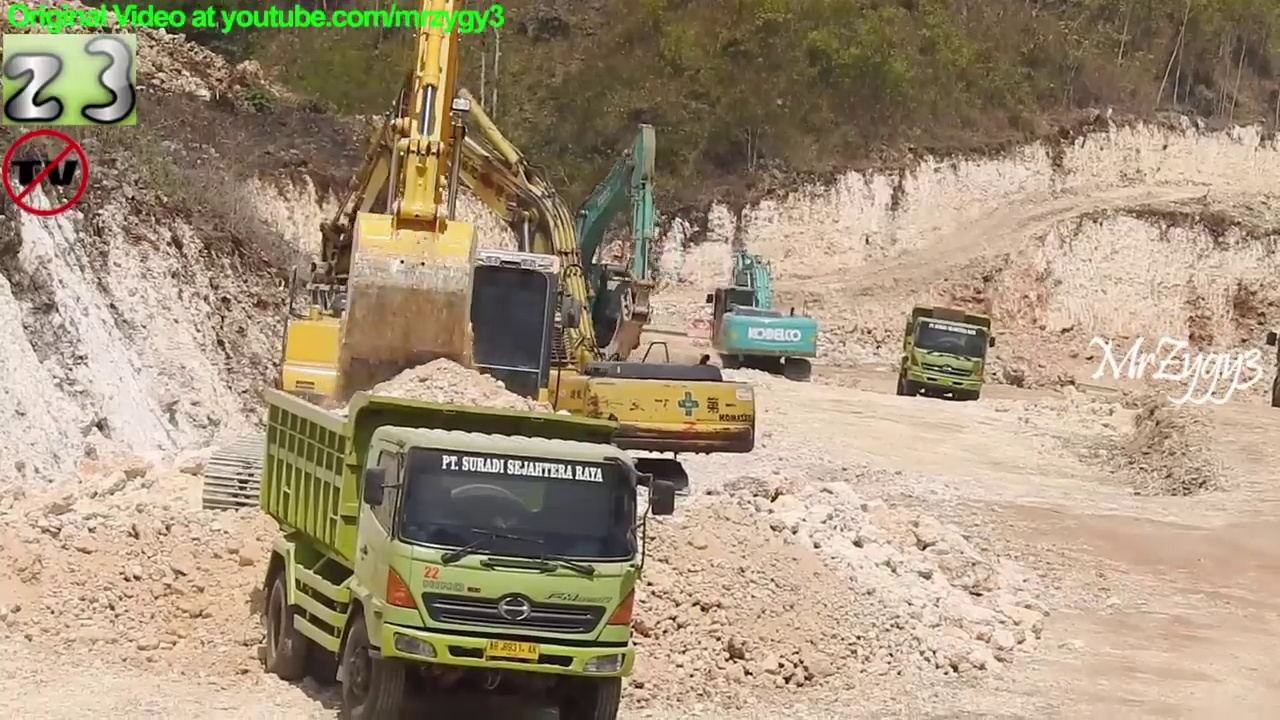excavator: (198, 1, 640, 555), (299, 58, 761, 526), (464, 112, 712, 438), (696, 241, 820, 386)
truck: (255, 381, 681, 720), (893, 299, 999, 409)
